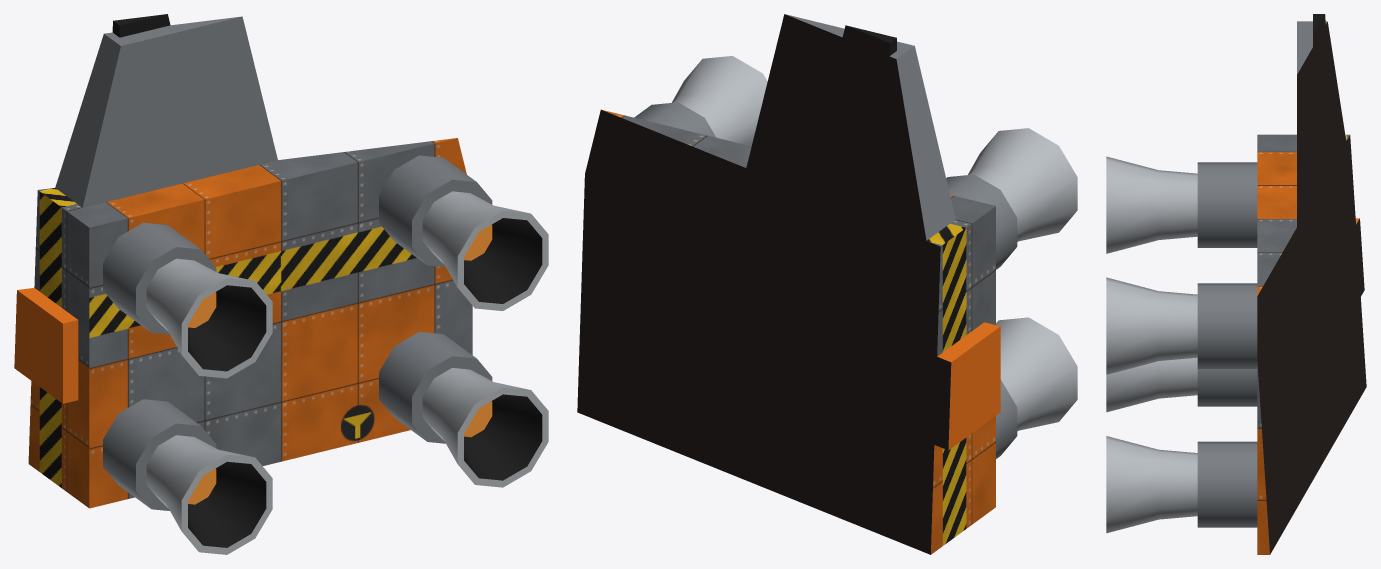
The model's file is prospector_hauler_debris4.obj.
3 views of the same model, side by side, from view 1: azimuth 30°, elevation 25°; view 2: azimuth 150°, elevation 25°; view 3: azimuth 270°, elevation 25° (orthographic). The views are drawn at different scales.
Parts seen in each view (by area): view 1: hull, thruster, hopper, pod, rail, ore; view 2: hull, hopper, thruster, pod, rail, ore; view 3: hull, thruster, pod, hopper, ore, rail.
Part boxes in pixels (x1=…): hull: x1=28, y1=138, x2=472, y2=508; thruster: x1=146, y1=191, x2=548, y2=554; hopper: x1=55, y1=16, x2=277, y2=207; pod: x1=103, y1=155, x2=492, y2=510; rail: x1=14, y1=288, x2=78, y2=403; ore: x1=112, y1=14, x2=170, y2=37; hull: x1=577, y1=109, x2=995, y2=554; hopper: x1=746, y1=14, x2=955, y2=240; thruster: x1=671, y1=56, x2=1077, y2=431; pod: x1=591, y1=102, x2=1017, y2=458; rail: x1=934, y1=322, x2=1000, y2=450; ore: x1=838, y1=25, x2=896, y2=73; hull: x1=1257, y1=134, x2=1366, y2=554; thruster: x1=1106, y1=156, x2=1197, y2=533; pod: x1=1197, y1=162, x2=1336, y2=527; hopper: x1=1297, y1=21, x2=1346, y2=226; ore: x1=1313, y1=14, x2=1326, y2=62; rail: x1=1355, y1=218, x2=1364, y2=296.
Bounding box in the file's own units: 10.4 × 11.1 × 6.55.
Materials: 7 (1 with a texture image).
